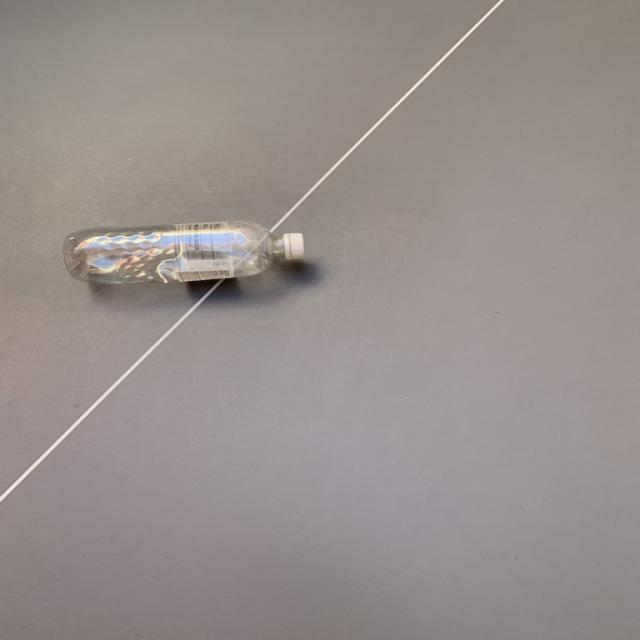Waste: (62, 221, 302, 283)
